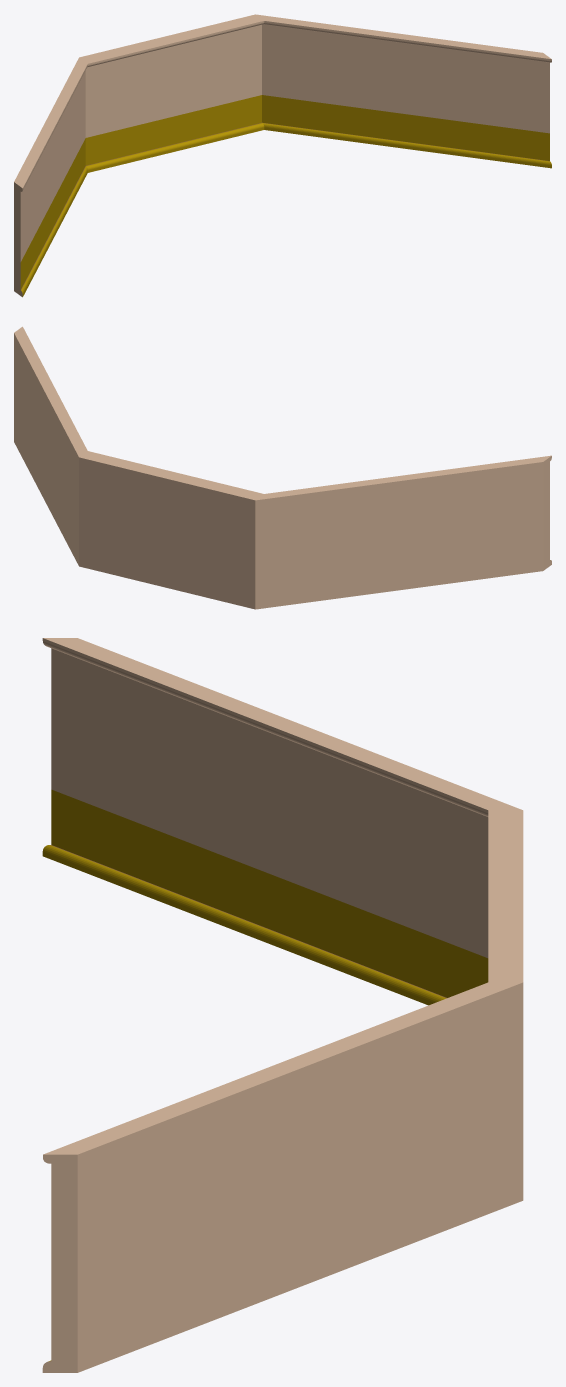
Rendered from MenuRoom2.dae.
3 renders of one model, top to bottom at view 1: azimuth 30°, elevation 25°; view 2: azimuth 150°, elevation 25°; view 3: azimuth 270°, elevation 25°, orthographic. The views are drawn at different scales.
Parts seen in each view (by area): view 1: Cube; view 2: Cube; view 3: Cube.
Part boxes in pixels (box(x1,y1,x2,y2)): Cube: box(14, 14, 551, 297); Cube: box(14, 326, 551, 609); Cube: box(42, 638, 523, 1372).
Bounding box in the file's own units: 23.56 × 9.26 × 4.64.
1 material, 1 textured.
